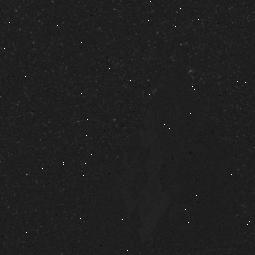proba_2: (106, 87, 206, 247)
